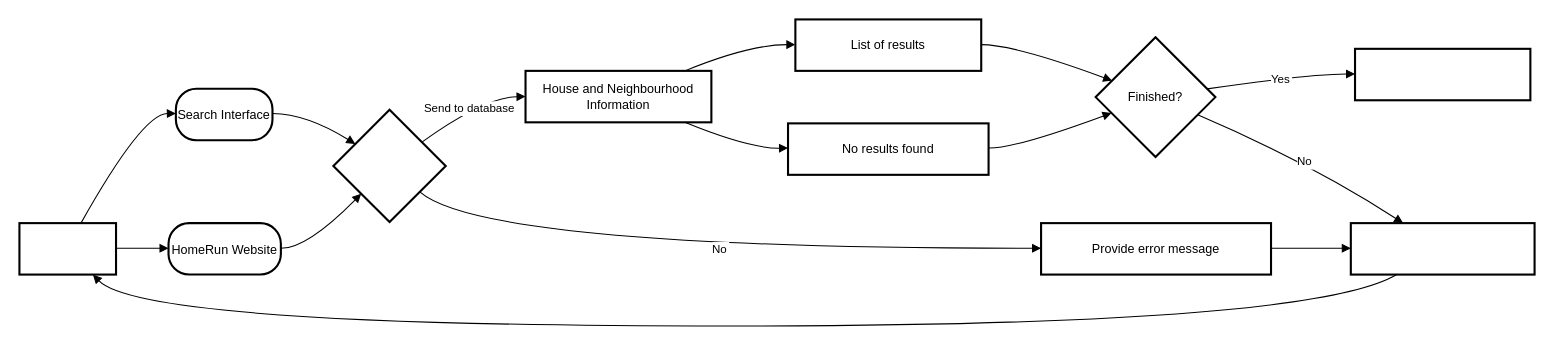
Image size: 1553x344. Some labels were removed from this diagram. The box of each missing label's shape, as (x1, y1, x2, y2) in pixels:
Deliver to User: (1353, 47, 1531, 101)
Required Query Fields: (332, 108, 446, 223)
Review and Edit: (1349, 222, 1535, 275)
User: (18, 222, 117, 275)
